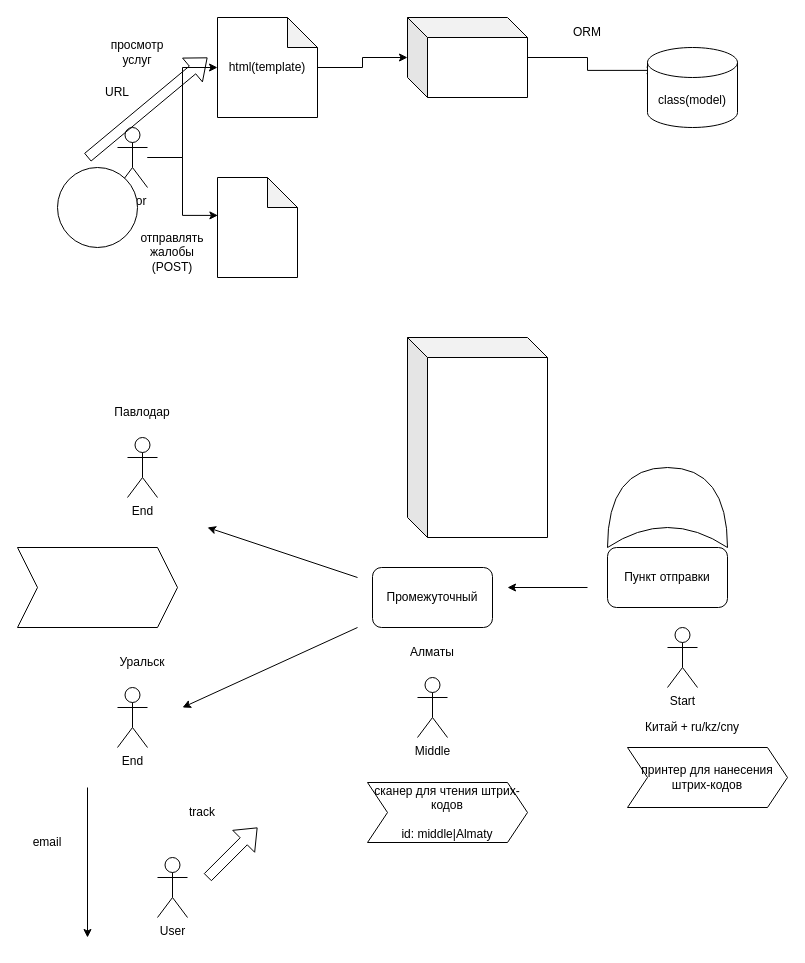
The diagram is 805 pixels wide and 963 high, and some of its shapes have lost their labels. Here are the shapes that lost their labels. From the top down, the box of each, then its label:
(406, 16, 528, 98): def(view)
(56, 166, 138, 248): chrome
(216, 176, 298, 278): html
(406, 336, 548, 538): track, date_start, date_planed_end, description, username, address, contact
(16, 546, 178, 628): сканер для чтения штрих-кодов id: final|Pavlodar
